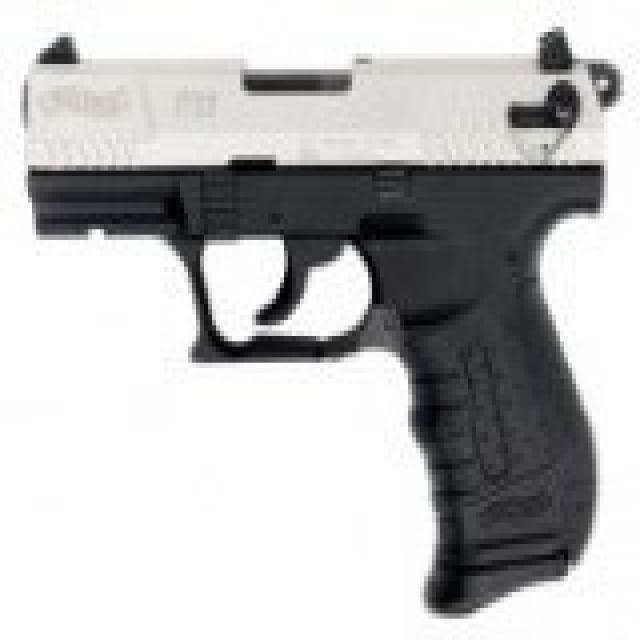Gun: (13, 39, 628, 581)
